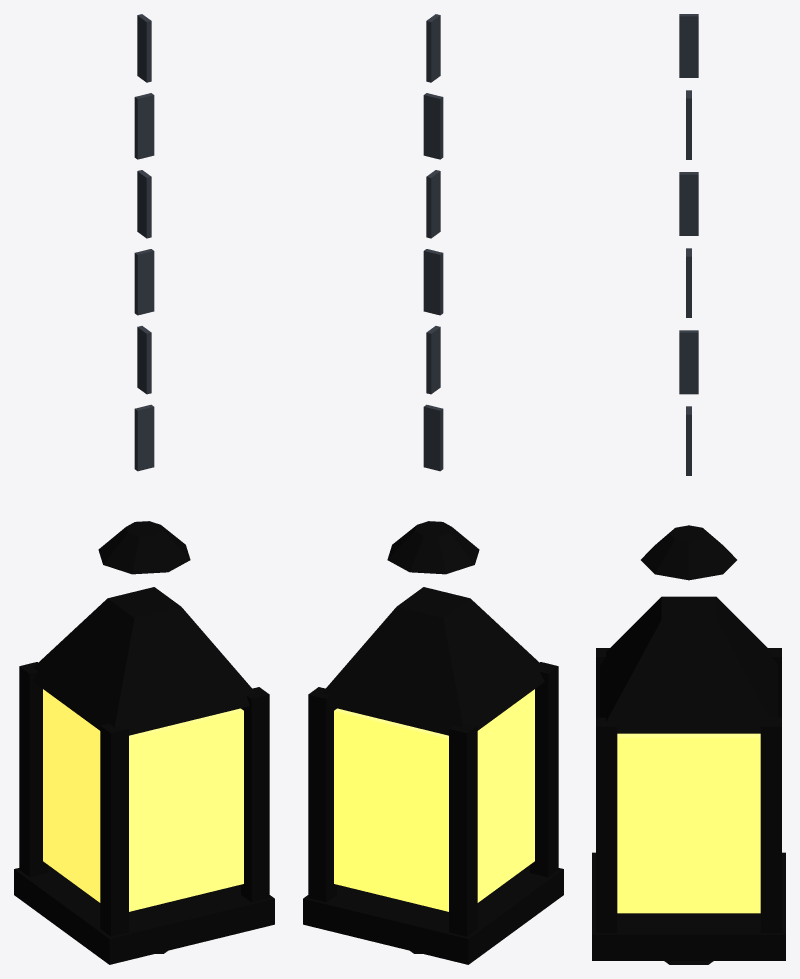
The model's file is SM_HLight_Lantern_Hanging.glb.
3 renders of one model, left to right at view 1: azimuth 30°, elevation 25°; view 2: azimuth 150°, elevation 25°; view 3: azimuth 270°, elevation 25°, orthographic.
Parts seen in each view (by area): view 1: SM_HLight_Lantern_Hanging; view 2: SM_HLight_Lantern_Hanging; view 3: SM_HLight_Lantern_Hanging.
Boxes of the visible parts, box(x1,y1,x2,y2) form: SM_HLight_Lantern_Hanging: box(14, 14, 274, 964); SM_HLight_Lantern_Hanging: box(303, 14, 563, 964); SM_HLight_Lantern_Hanging: box(592, 14, 785, 964).
Bounding box in the file's own units: 0.2 × 1.06 × 0.2.
